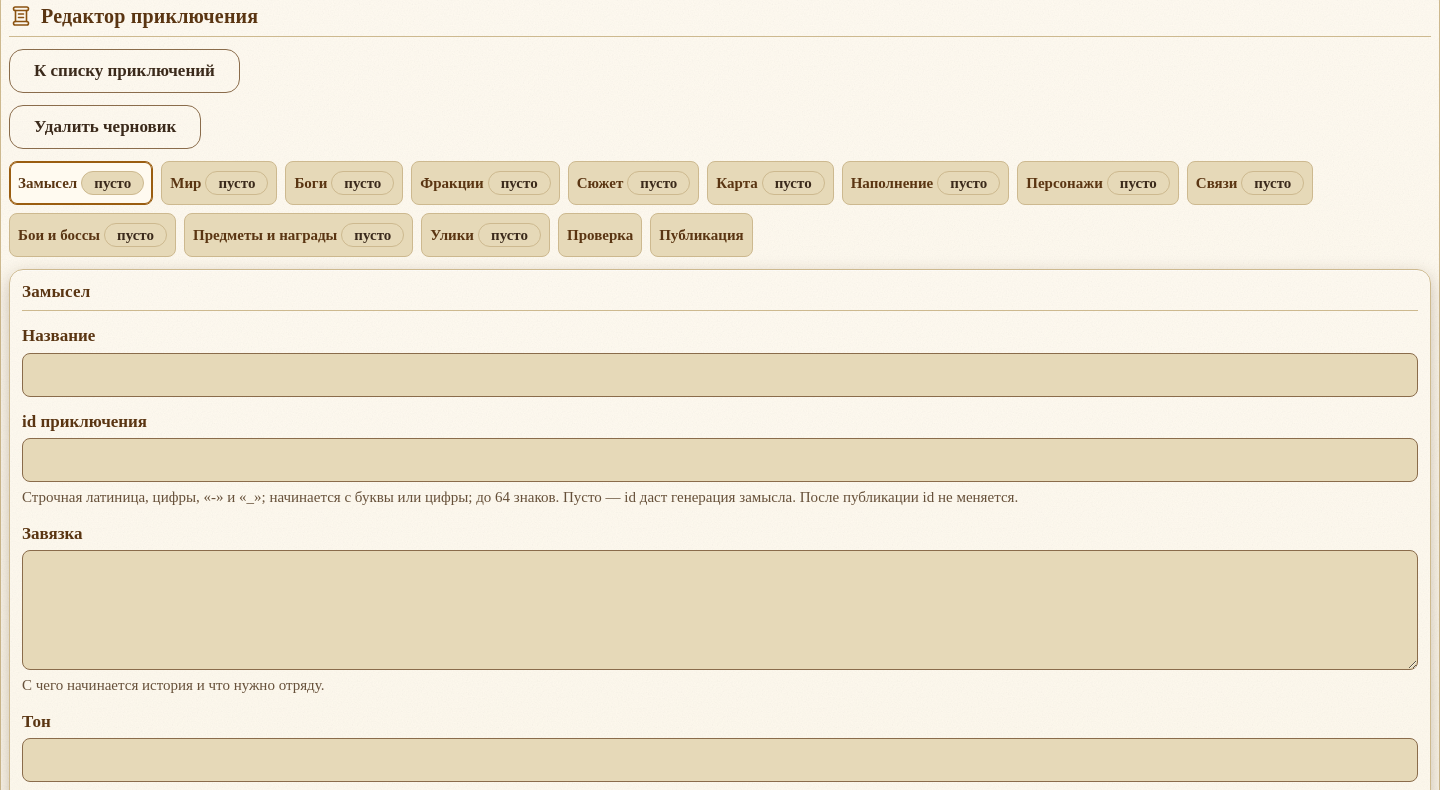
Test: шаг «Карта» › локации из черновика: выходы «откуда → куда», старт и финал
Click the button "Карта пусто". click: coordinates (770, 183)
box: [707,161,834,205]
(page scrolled)
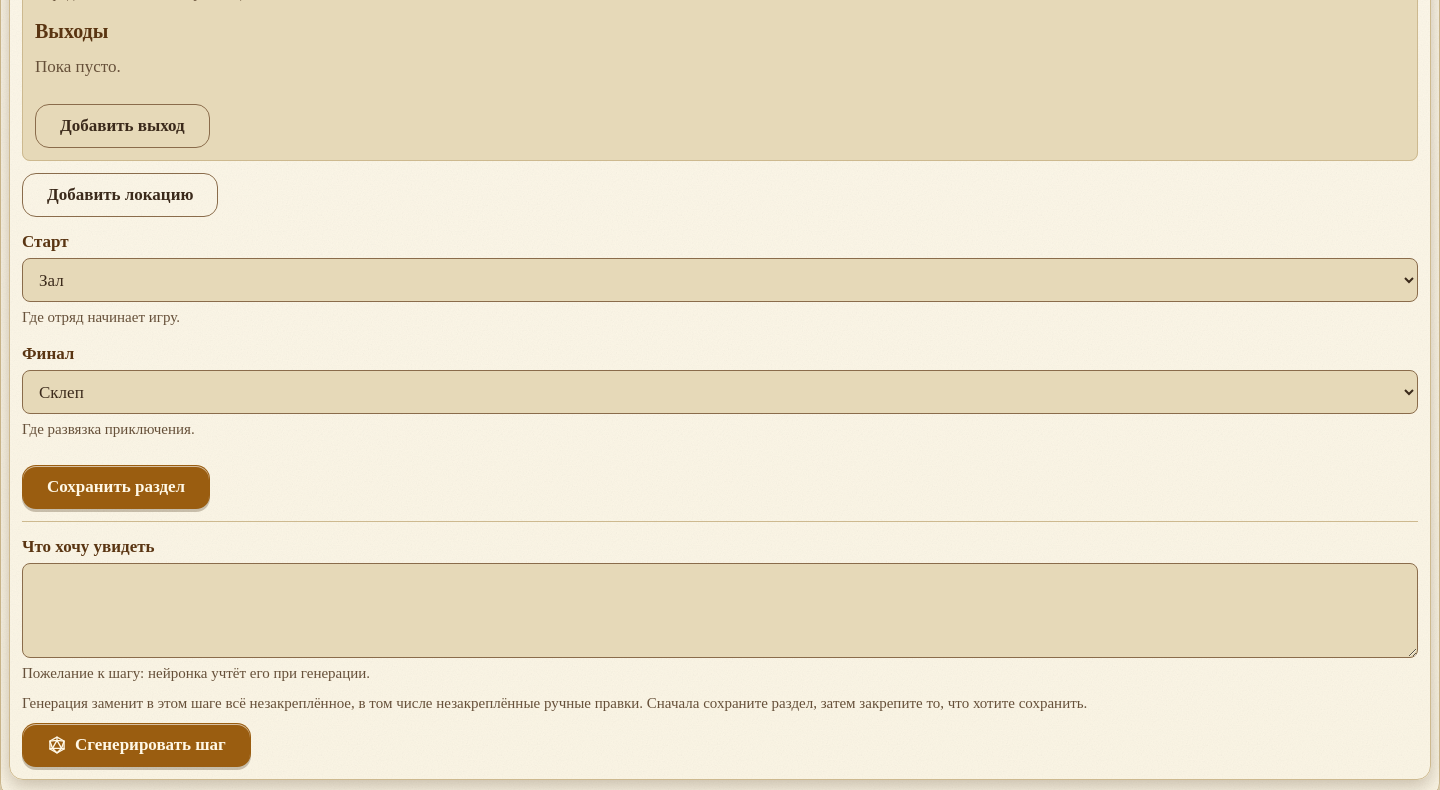
Result: the dropdown labelled "Старт" shows "Зал" at [22,258,1418,302]
Result: the dropdown labelled "Финал" shows "Склеп" at [22,370,1418,414]
